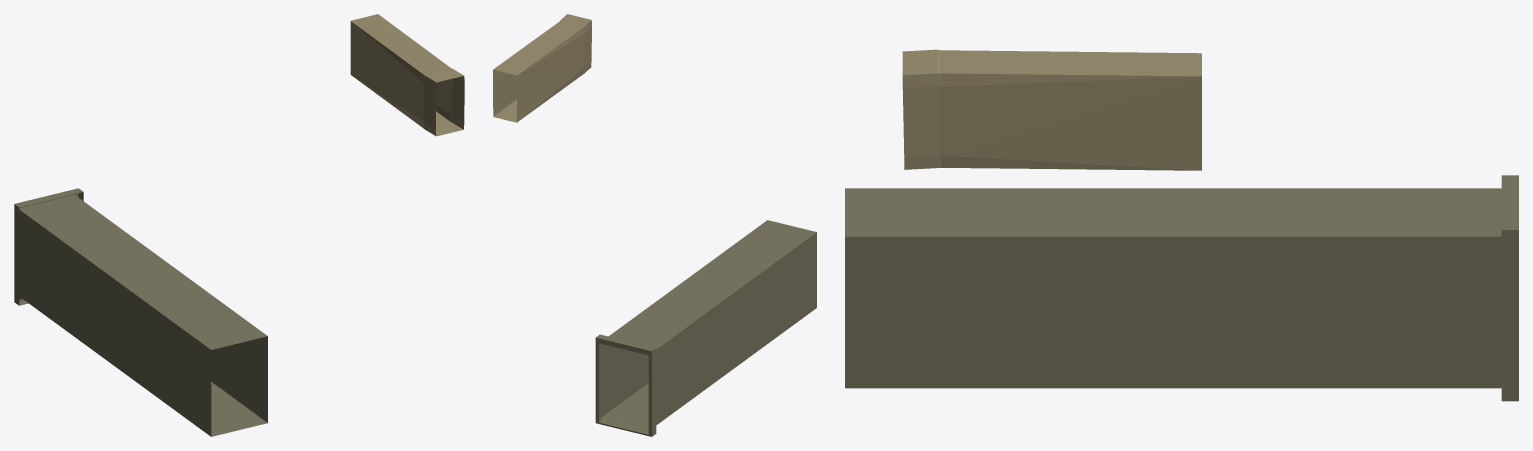
The model's file is Acri_Tyrda_Passages3.dae.
3 views of the same model, side by side, from view 1: azimuth 30°, elevation 25°; view 2: azimuth 150°, elevation 25°; view 3: azimuth 270°, elevation 25° (orthographic). The views are drawn at different scales.
Visible parts, largest first — view 1: DeepAcri3; view 2: DeepAcri3; view 3: DeepAcri3.
Boxes of the visible parts, <box> form: DeepAcri3: <box>14,14,464,436</box>; DeepAcri3: <box>493,14,816,436</box>; DeepAcri3: <box>845,49,1518,401</box>.
Size of the model in its own units: 15.22 by 18.59 by 15.35.
